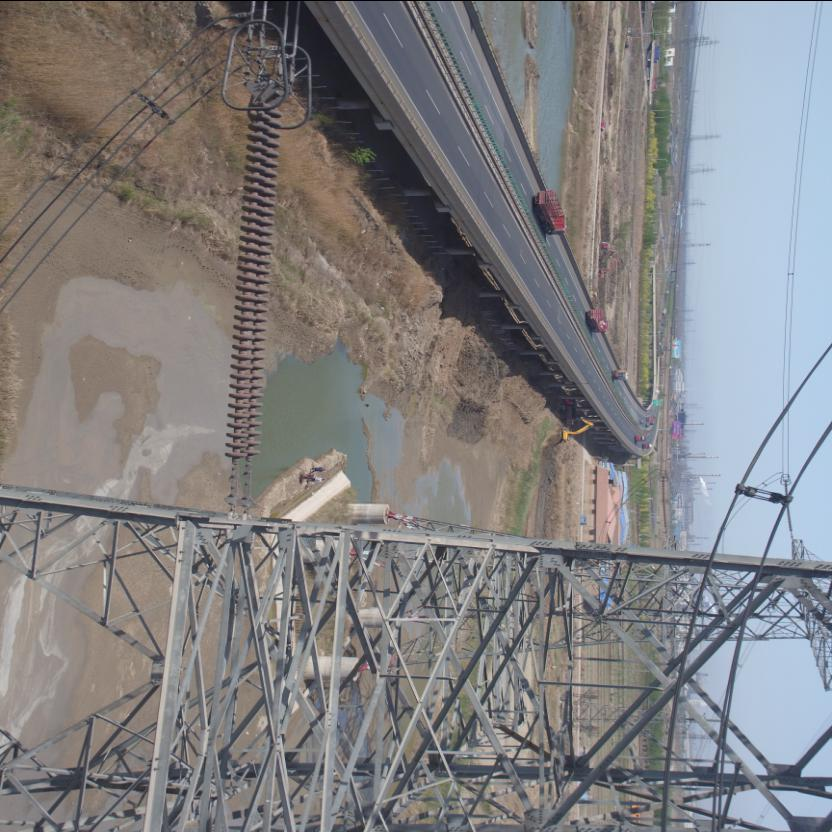insulator: (224, 87, 286, 480)
